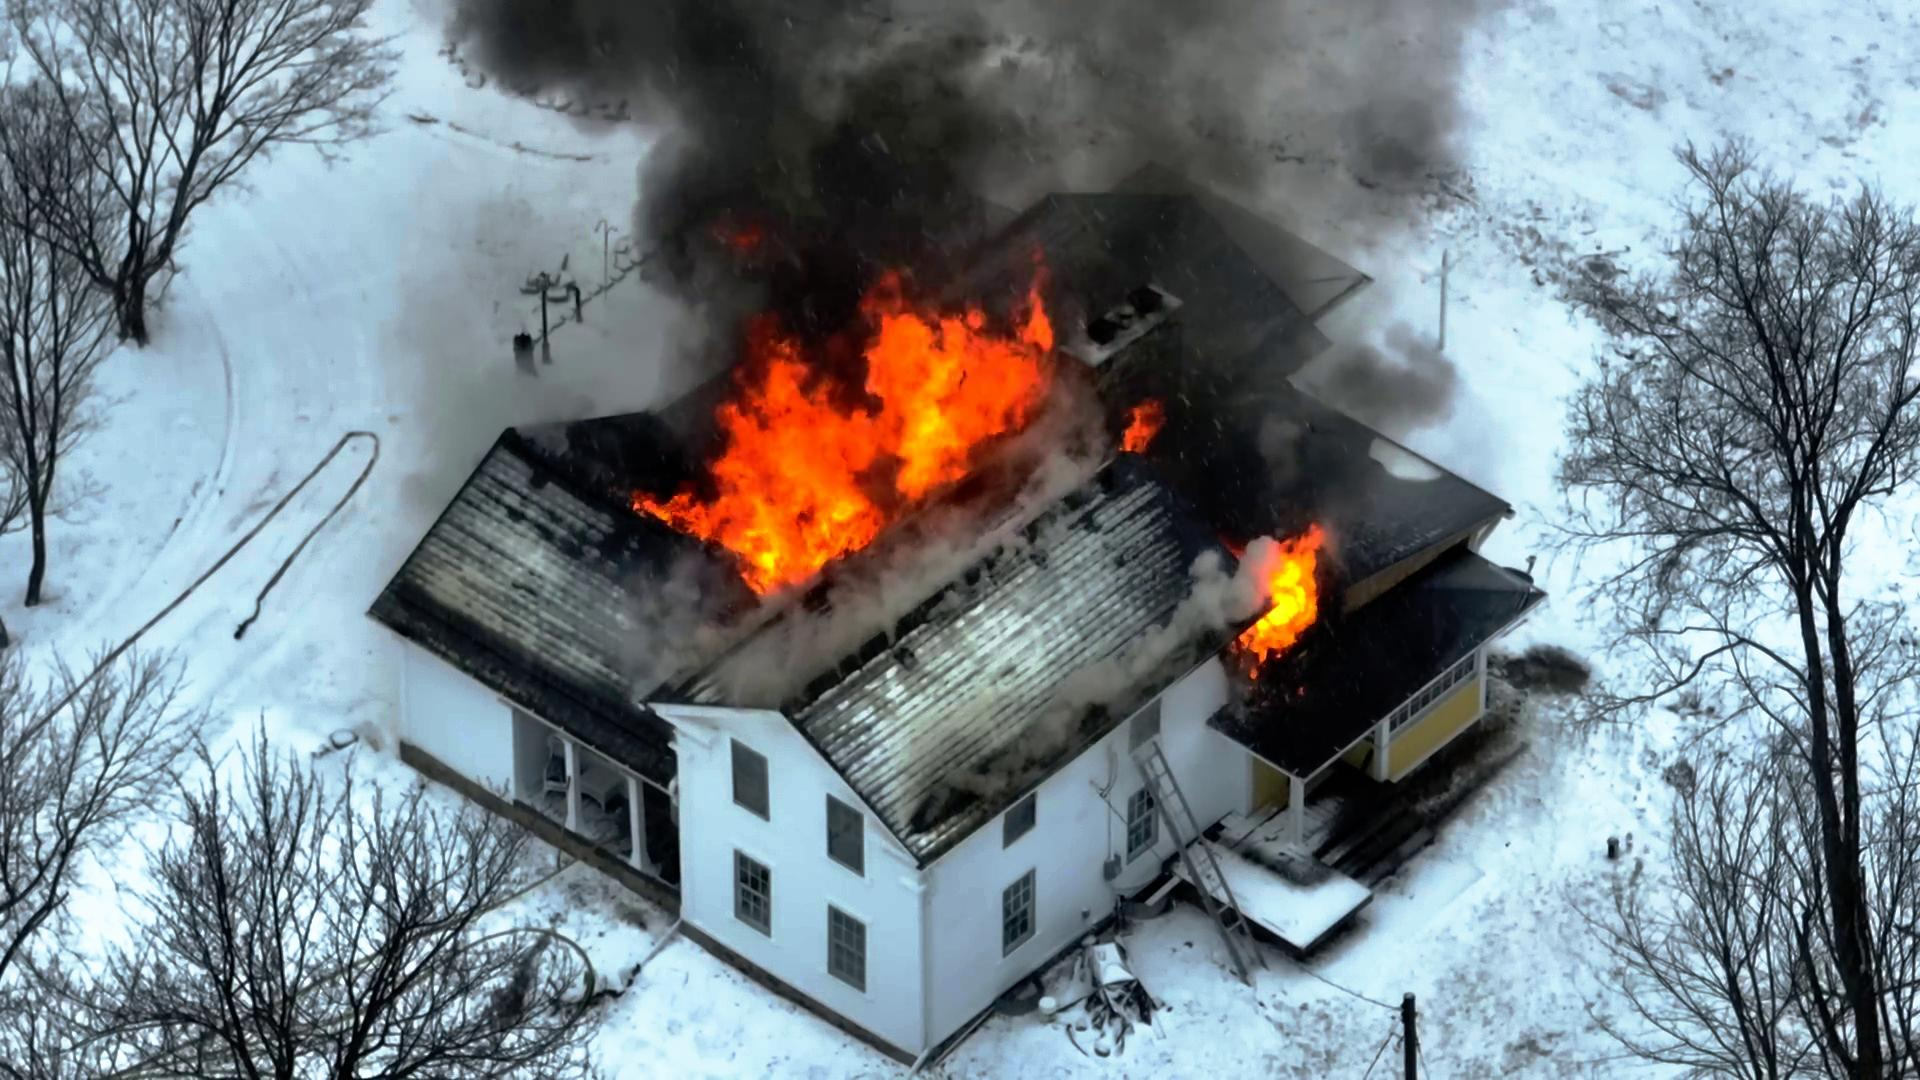fire: (746, 313, 1029, 475), (636, 465, 885, 595), (949, 193, 1055, 476), (1233, 553, 1337, 680)
smoke: (667, 30, 886, 363)
